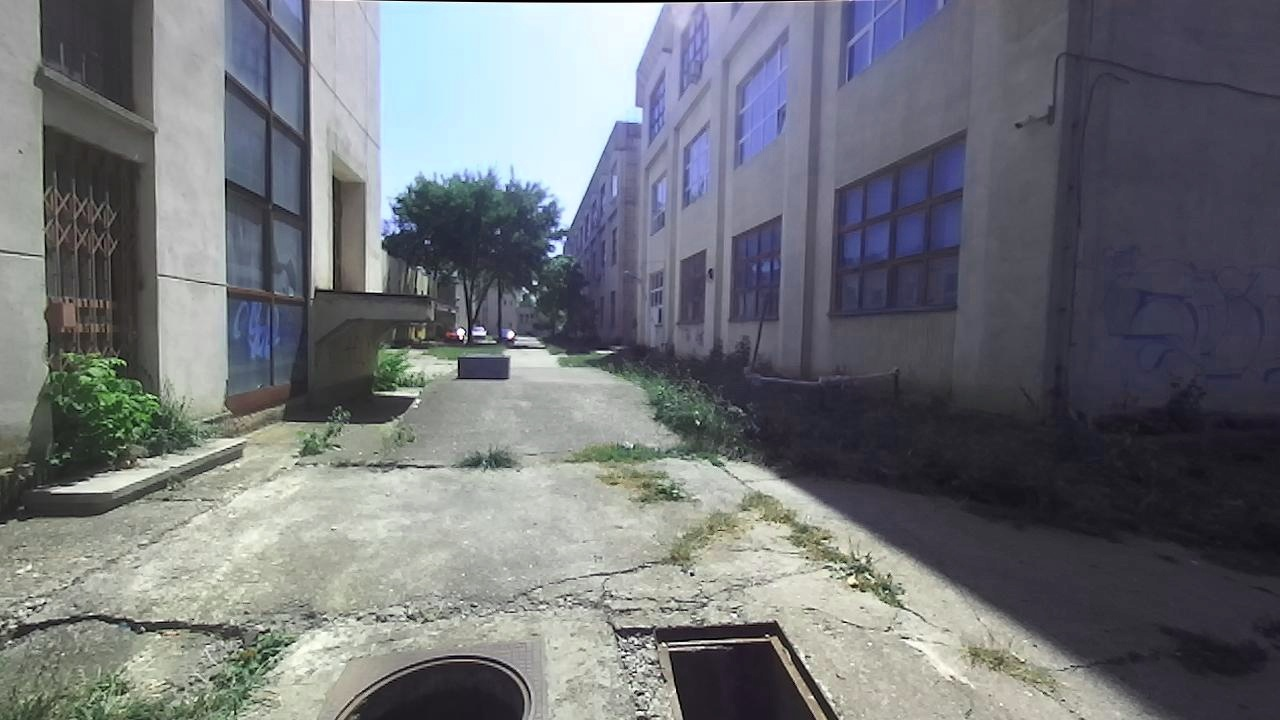drain: (650, 612, 842, 718), (330, 648, 542, 718)
